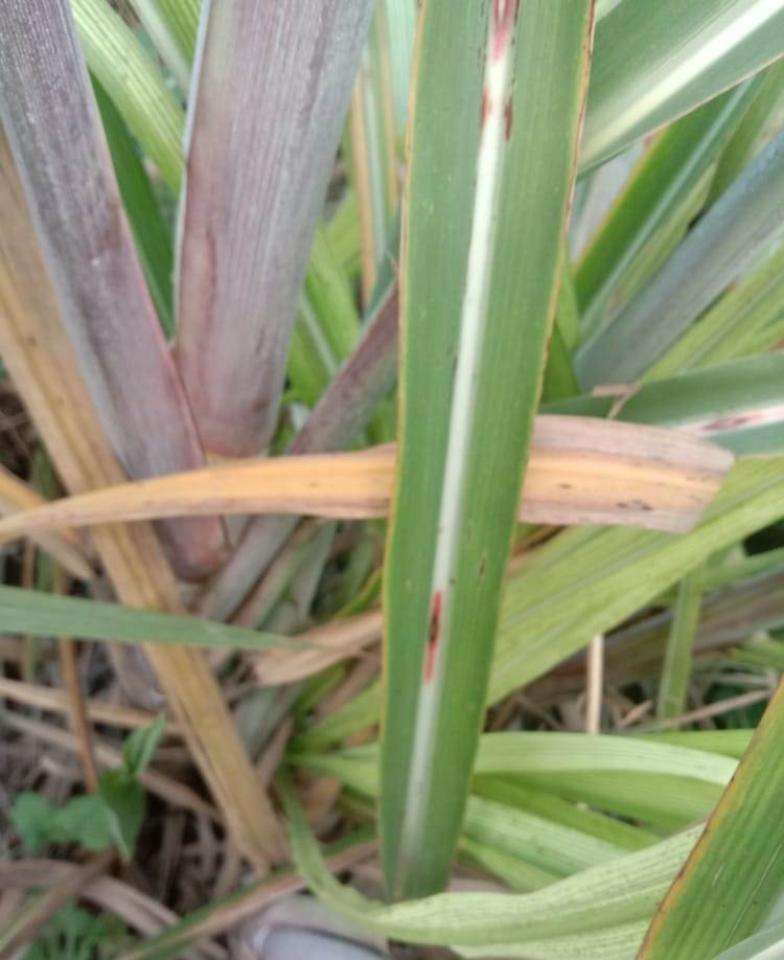RedRot: (423, 589, 443, 686), (490, 0, 521, 62), (692, 413, 765, 431), (501, 89, 515, 142), (481, 82, 494, 129)
Rust: (476, 0, 490, 79), (447, 341, 459, 388), (476, 553, 487, 579), (468, 517, 472, 545), (448, 577, 458, 586), (510, 74, 516, 84), (511, 38, 516, 46)
